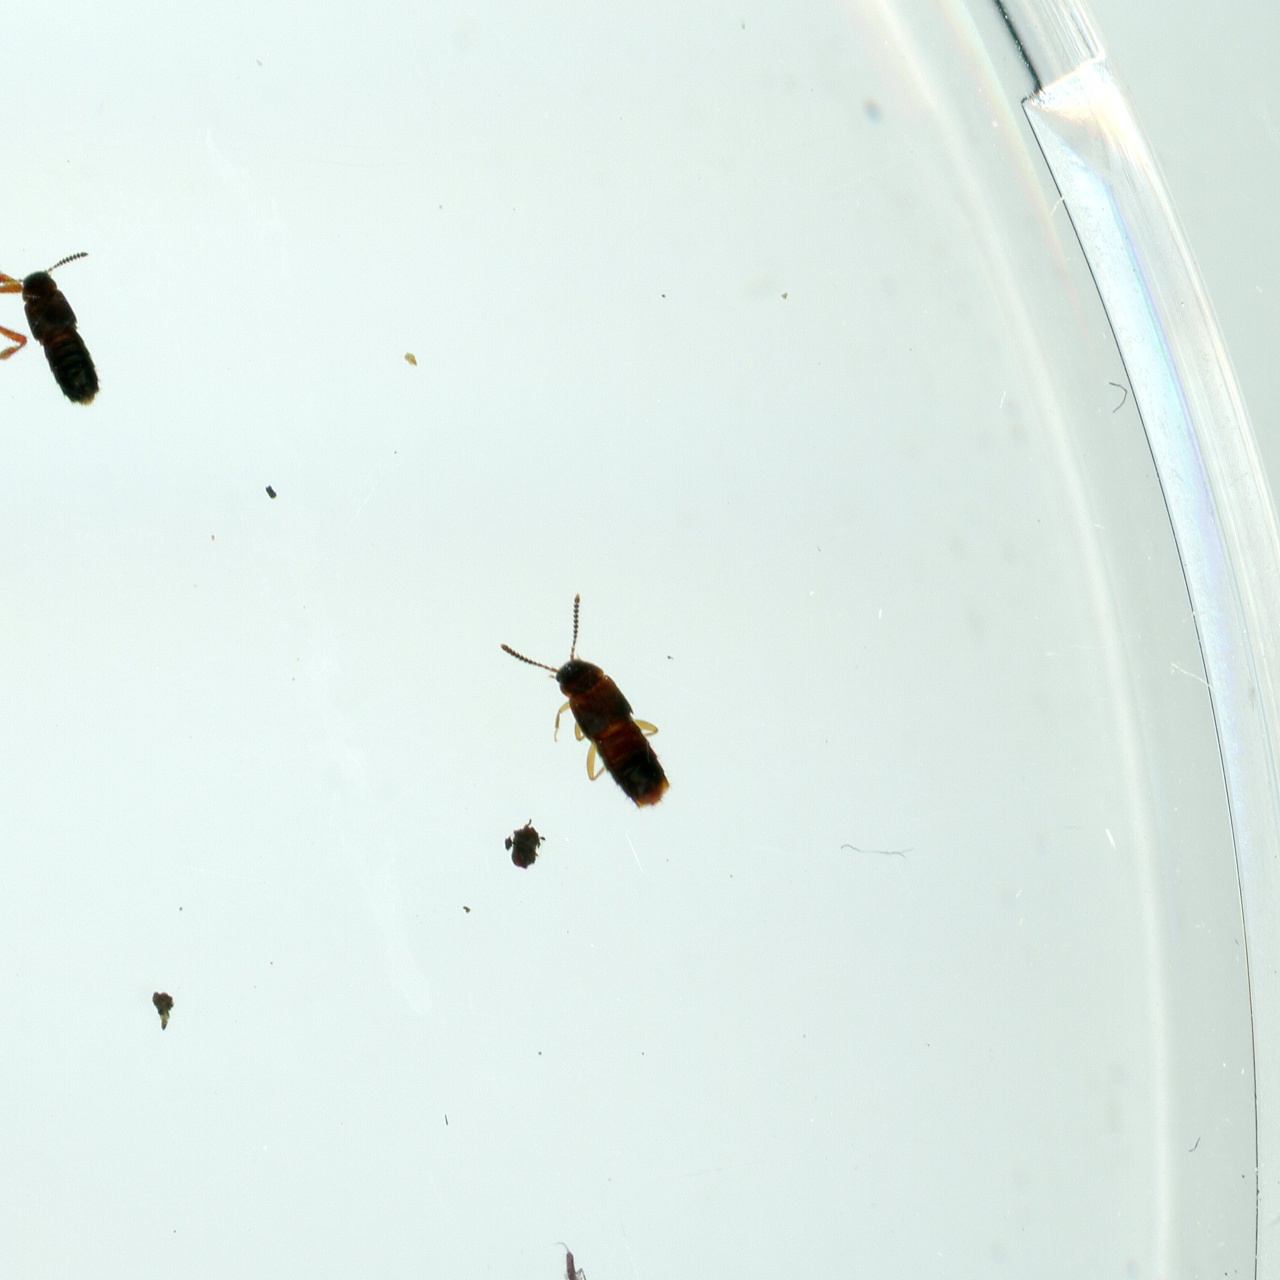arthropod: (475, 568, 724, 853), (0, 236, 141, 438), (0, 159, 52, 465), (539, 1217, 607, 1280)
